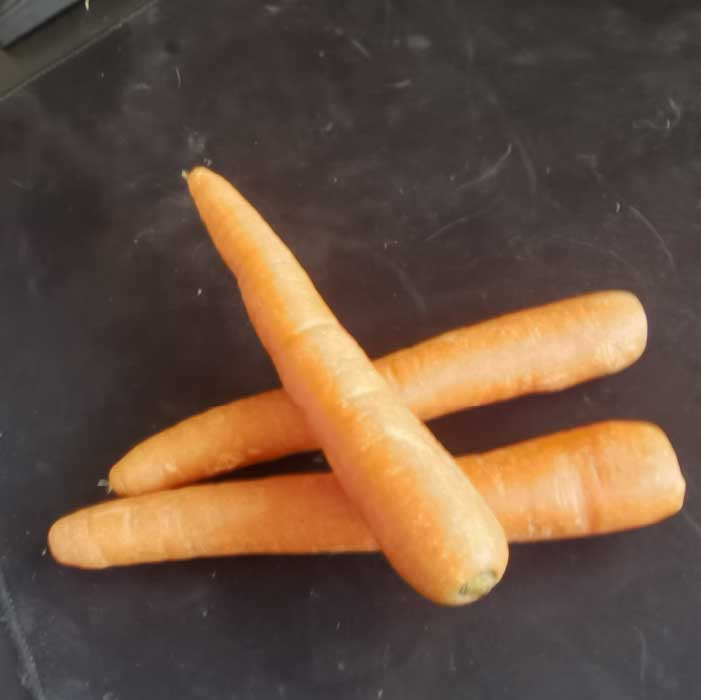Karotte: (185, 164, 508, 607), (47, 419, 686, 573)
